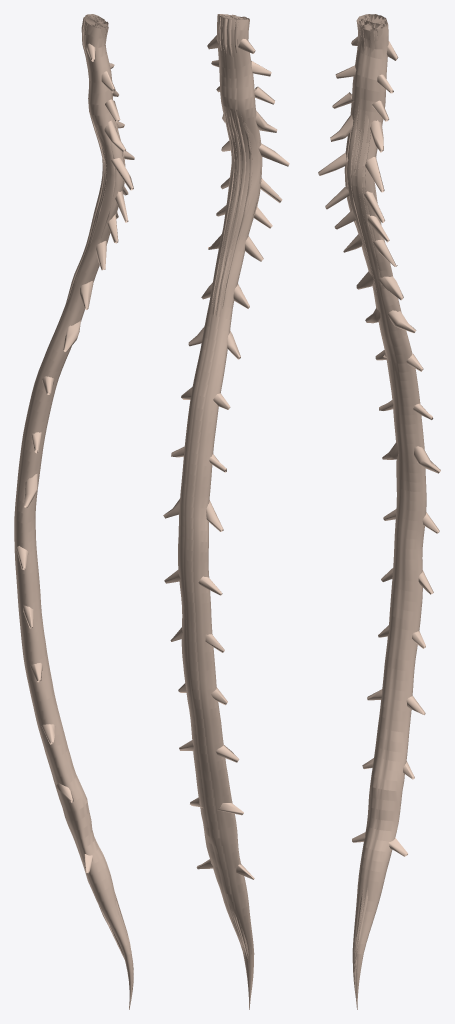
File: nervous_central.thorax.glb
3 views of the same model, side by side, from view 1: azimuth 90°, elevation 25°; view 2: azimuth 150°, elevation 25°; view 3: azimuth 330°, elevation 25° (orthographic). The views are drawn at different scales.
Parts seen in each view (by area): view 1: spinal_dura, posterior_spinocerebellar_tract, gracile_fasciculus, anterior_spinocerebellar_tract, posterolateral_tract, anterior_spinothalamic_tract; view 2: spinal_dura, gracile_fasciculus, posterior_spinocerebellar_tract, posterolateral_tract; view 3: spinal_dura, anterior_spinothalamic_tract, anterior_spinocerebellar_tract.
Part boxes in pixels (box(x1,y1,x2,y2)): spinal_dura: box(14, 14, 134, 1009); posterior_spinocerebellar_tract: box(85, 14, 130, 1005); gracile_fasciculus: box(66, 17, 124, 958); anterior_spinocerebellar_tract: box(95, 15, 132, 1009); posterolateral_tract: box(69, 15, 123, 955); anterior_spinothalamic_tract: box(93, 21, 133, 998); spinal_dura: box(163, 14, 289, 1009); gracile_fasciculus: box(213, 18, 247, 958); posterior_spinocerebellar_tract: box(218, 14, 260, 1006); posterolateral_tract: box(211, 16, 252, 954); spinal_dura: box(318, 14, 440, 1009); anterior_spinothalamic_tract: box(348, 27, 382, 1006); anterior_spinocerebellar_tract: box(344, 18, 386, 1009).
Bounding box in the file's own units: 0.0358 × 0.4756 × 0.0524.
